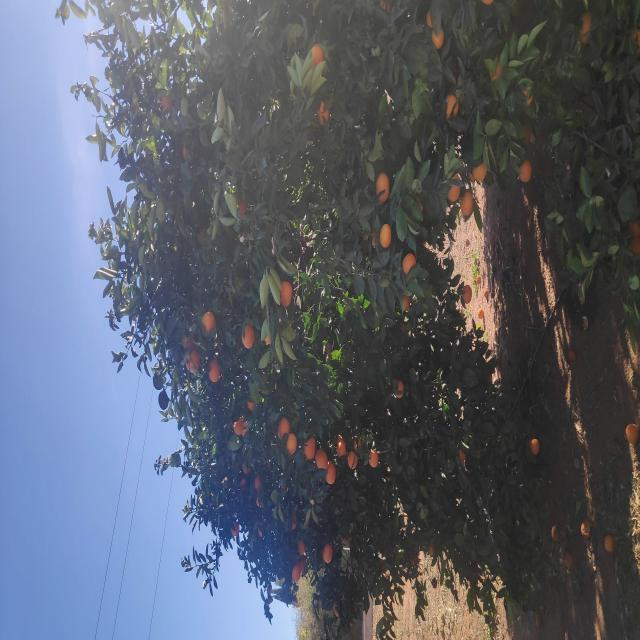Jeruk Sudah Matang: (438, 376, 467, 390), (515, 316, 542, 330), (365, 402, 388, 417), (268, 186, 292, 200), (458, 518, 482, 532), (292, 242, 316, 255), (333, 280, 359, 292), (439, 448, 465, 460), (522, 446, 546, 459), (590, 432, 616, 444), (306, 202, 328, 216), (392, 380, 417, 392), (570, 311, 595, 323), (425, 460, 448, 473), (556, 490, 580, 502), (460, 472, 477, 488), (258, 208, 280, 220), (200, 278, 222, 290), (185, 286, 207, 298), (180, 305, 202, 316), (196, 626, 216, 638), (65, 297, 85, 308), (170, 316, 188, 328), (156, 326, 177, 336), (529, 162, 546, 174), (88, 604, 105, 616), (336, 462, 356, 472), (290, 182, 306, 194), (204, 234, 223, 244), (77, 322, 96, 332), (420, 238, 438, 248), (171, 348, 189, 358), (172, 368, 190, 378), (534, 523, 552, 533), (182, 337, 200, 346), (185, 531, 202, 540), (328, 402, 347, 410), (146, 254, 164, 262), (59, 292, 75, 301), (242, 396, 260, 404), (612, 426, 630, 434), (188, 354, 203, 362), (177, 458, 191, 466), (99, 552, 113, 560), (105, 232, 118, 240), (130, 256, 144, 263), (86, 298, 100, 305), (166, 242, 178, 250), (110, 292, 126, 298), (204, 242, 218, 248), (194, 336, 206, 343), (22, 334, 38, 339), (74, 412, 86, 418), (229, 247, 239, 254), (321, 478, 332, 484), (296, 264, 304, 272), (84, 429, 94, 434), (154, 240, 162, 245), (103, 258, 112, 262)
